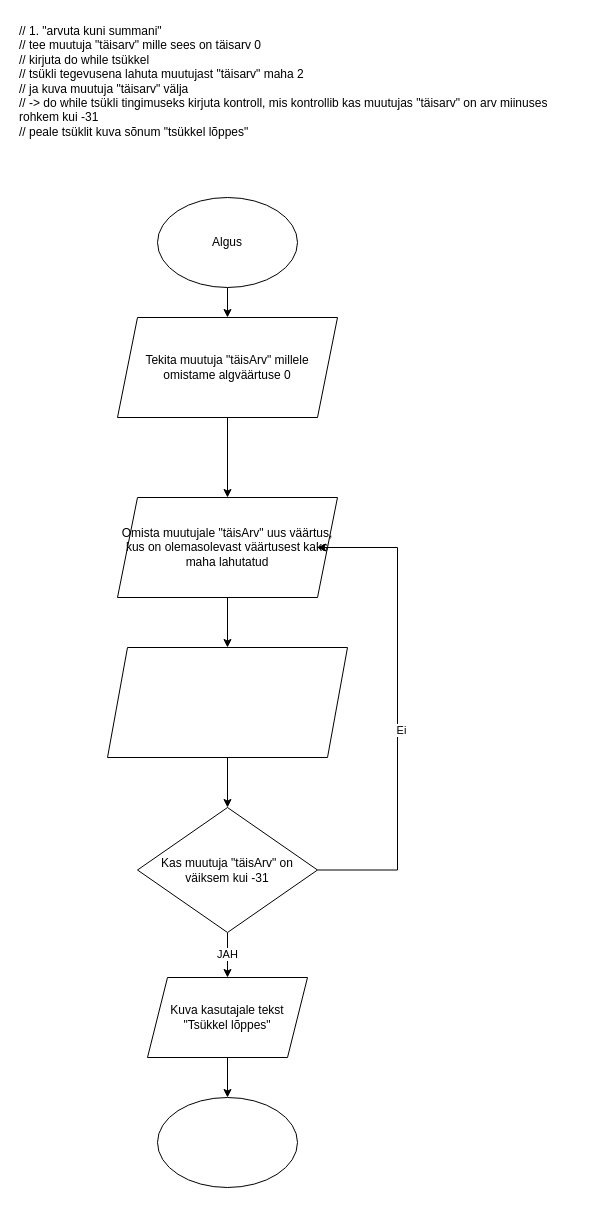
Image size: 594x1205. Some labels were removed from this diagram. Here are the shapes that lost their labels. From the top down, the centre of each, then its label:
pixel 227 702: Kuva kasutajale muutuja "täisarv" välja
pixel 227 1142: Lõpp
